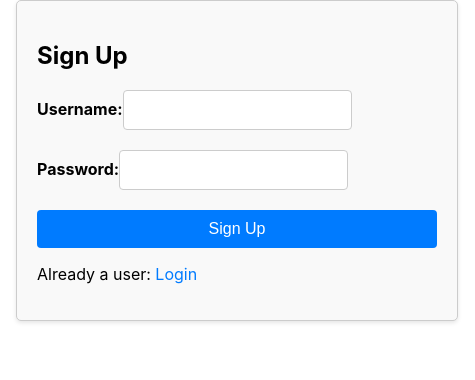
Test: SignUpPageTesting › failed singup
// Simulate user input and form submission
Step 1. Type "Chikku" into the field labelled "Username:" → (237, 110), box [123,90,352,130]
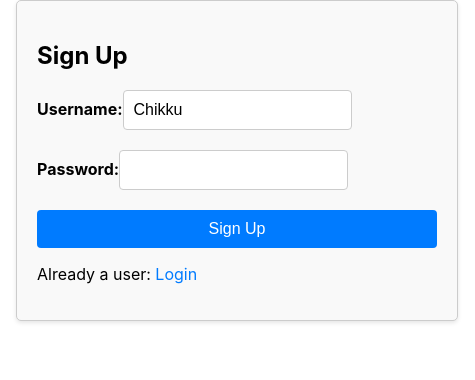
Step 2. Type "test123" into the password field labelled "Password:" → (234, 170), box [119,150,348,190]
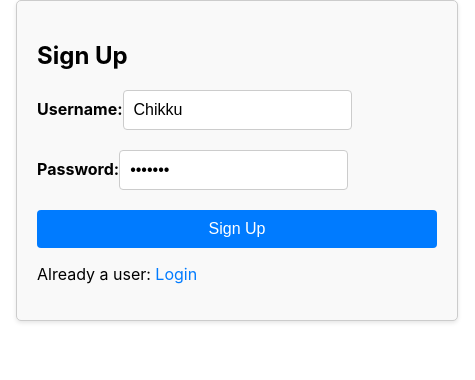
// simulate form submission
Step 3. Click the button "Sign Up" → (237, 229), box [37,210,437,248]
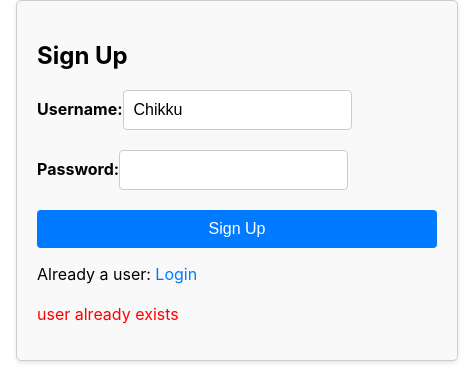
Expected: the text "user already exists" is shown, [37,304,179,324]
